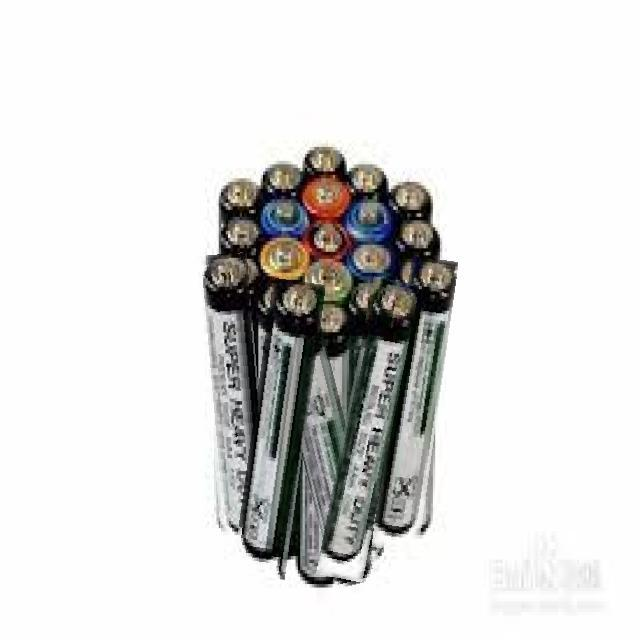Battery: (324, 274, 419, 567), (241, 287, 326, 566), (377, 265, 461, 534), (200, 255, 265, 535), (294, 354, 346, 588), (320, 303, 354, 419), (254, 228, 316, 280), (384, 212, 446, 262), (206, 171, 266, 216), (261, 154, 307, 212), (303, 172, 353, 222), (348, 189, 396, 238), (302, 212, 353, 258), (346, 156, 394, 204), (387, 171, 437, 217), (214, 212, 268, 252), (308, 260, 355, 305), (266, 189, 310, 235), (306, 141, 346, 183), (352, 237, 390, 274)
